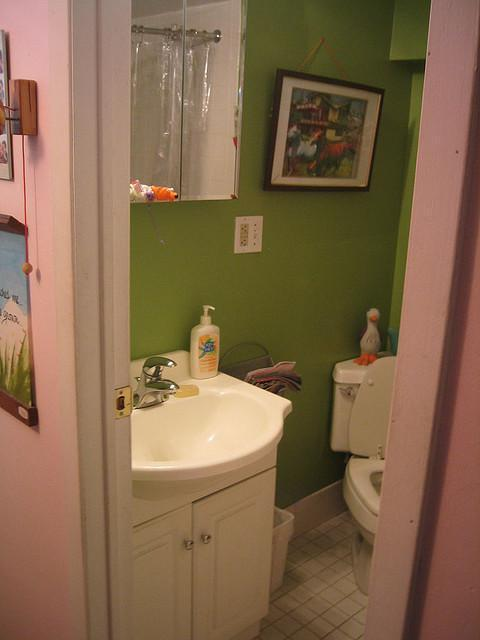Bote de Basura: (254, 499, 302, 605)
Lavamanos: (90, 357, 282, 491)
